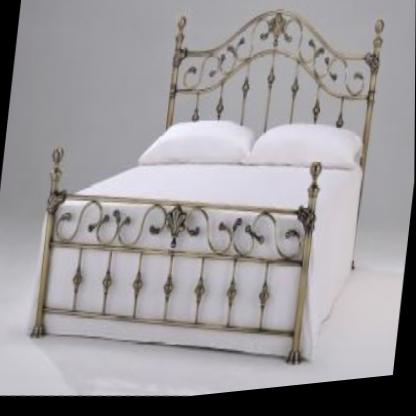Bed: (24, 0, 384, 400)
